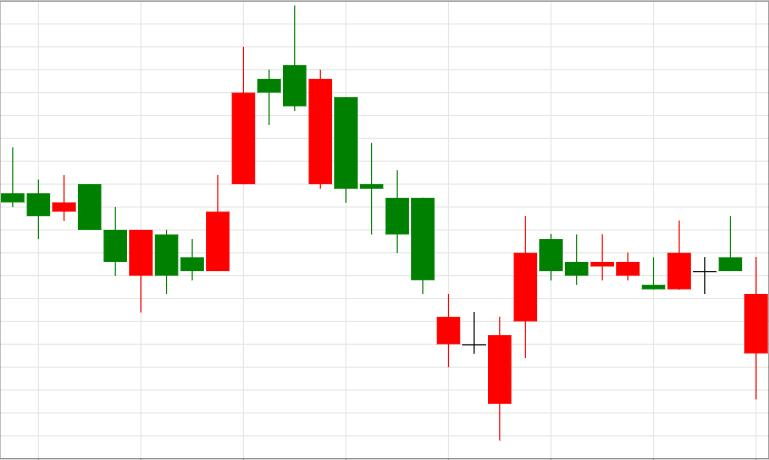shooting_star_fall: (155, 6, 306, 294)
